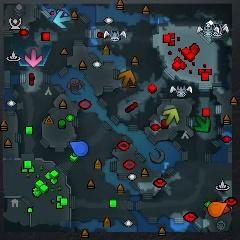p1: (69, 141, 88, 157)
p5: (209, 202, 227, 218)
x1: (24, 48, 43, 69)
x2: (163, 108, 180, 126)
x3: (54, 11, 72, 29)
x4: (195, 115, 211, 133)
x5: (119, 69, 135, 88)
